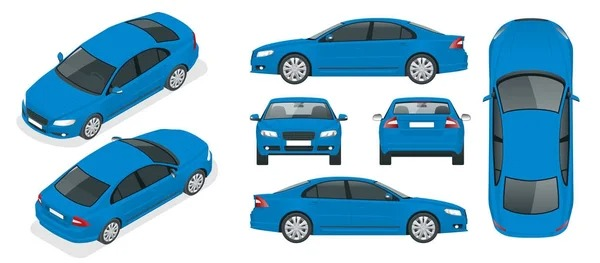car: (12, 13, 206, 144), (27, 130, 211, 248), (246, 177, 466, 243), (247, 17, 467, 82), (376, 97, 468, 162), (254, 98, 343, 163)
